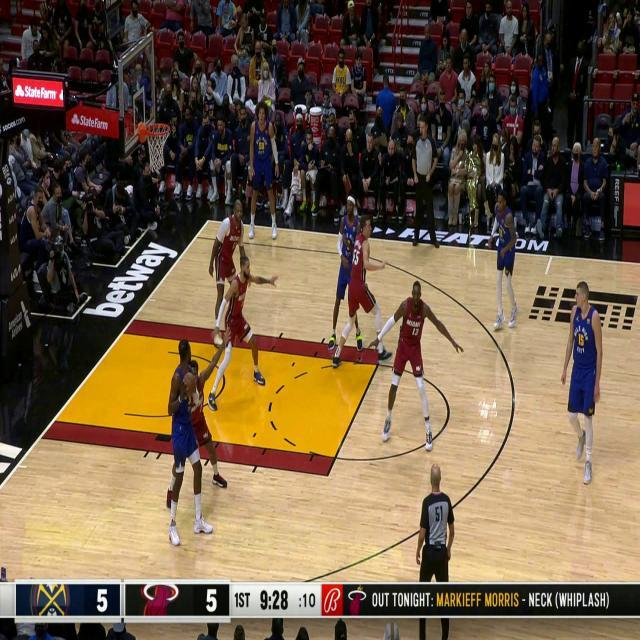rim: (184, 372, 196, 397)
